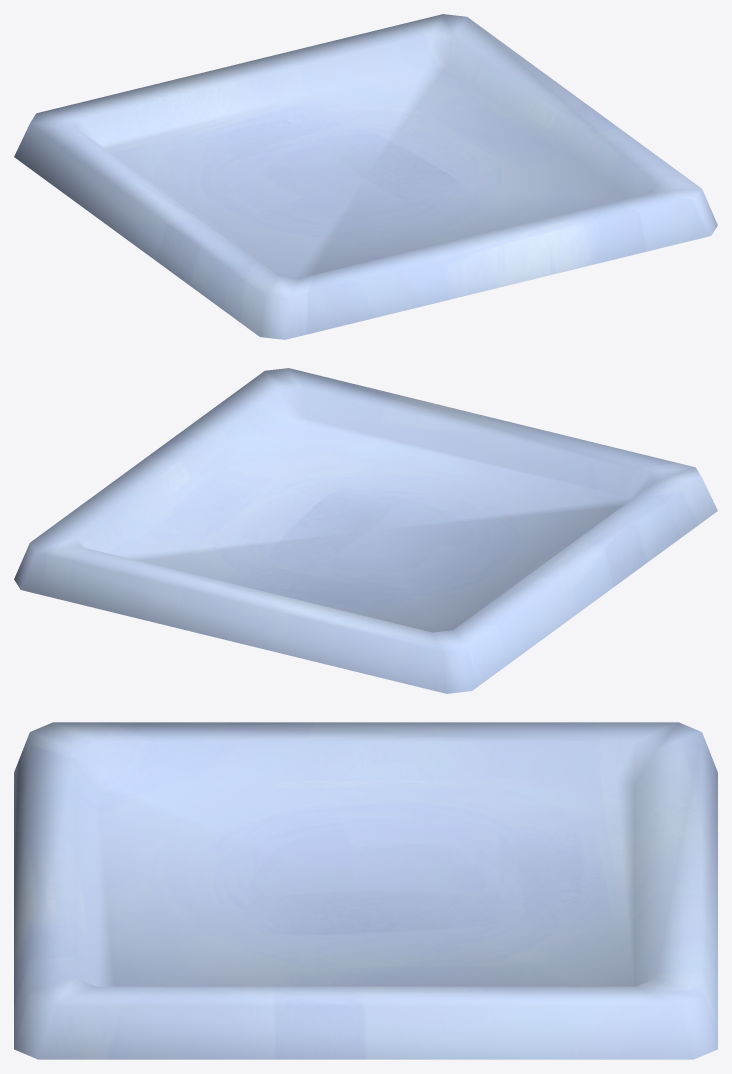
File: FruitContainer.002.fbx
The picture shows the model from 3 angles, top to bottom: view 1: azimuth 30°, elevation 25°; view 2: azimuth 150°, elevation 25°; view 3: azimuth 270°, elevation 25°; orthographic projection. The views are drawn at different scales.
Visible parts, largest first — view 1: FruitContainer.002; view 2: FruitContainer.002; view 3: FruitContainer.002.
Boxes of the visible parts, x1=… form: FruitContainer.002: x1=14, y1=14, x2=717, y2=339; FruitContainer.002: x1=14, y1=368, x2=717, y2=693; FruitContainer.002: x1=14, y1=722, x2=717, y2=1059.
Size of the model in its own units: 76.23 by 5.58 by 76.23.
